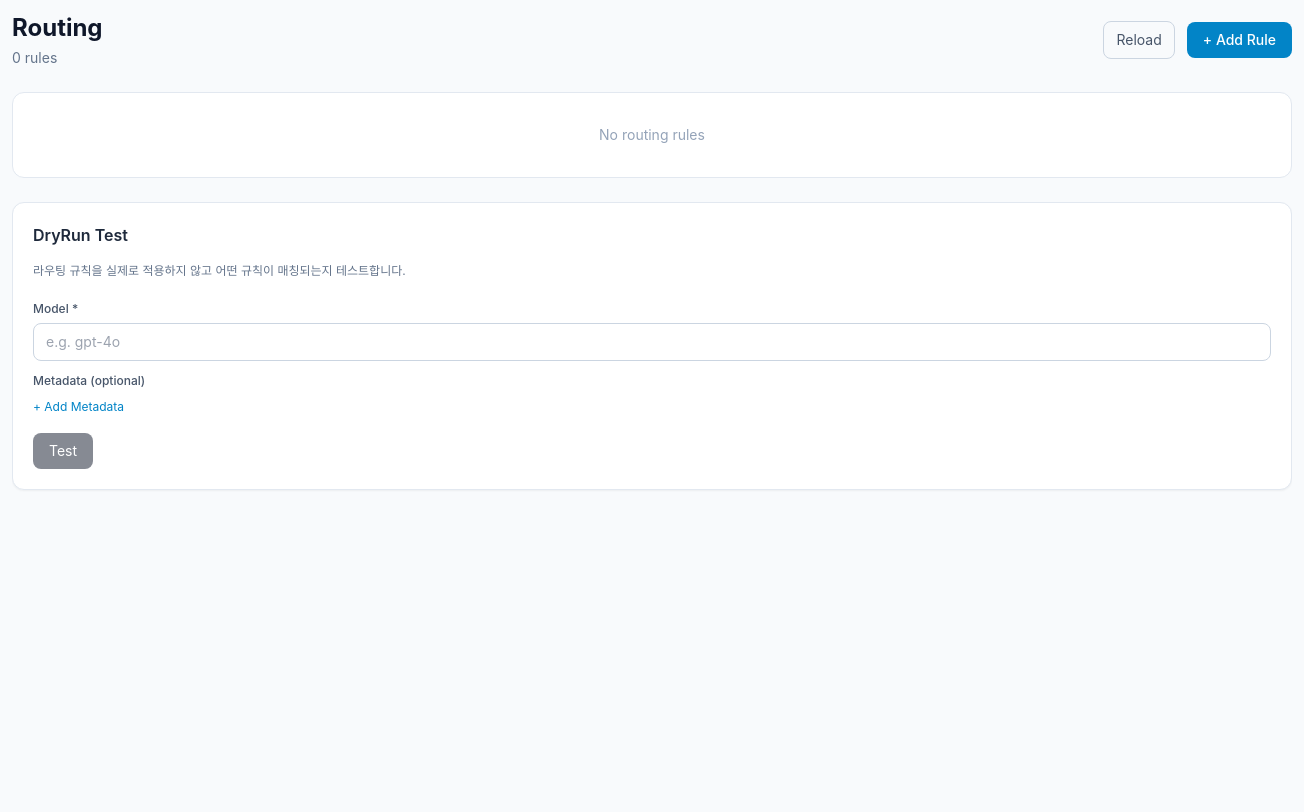
RoutingPage › TC-12: DryRun no match — shows "No matching rule" message
Type "unknown-model" into the field with placeholder "e.g. gpt-4o" at (652, 342), box [33, 323, 1271, 361]
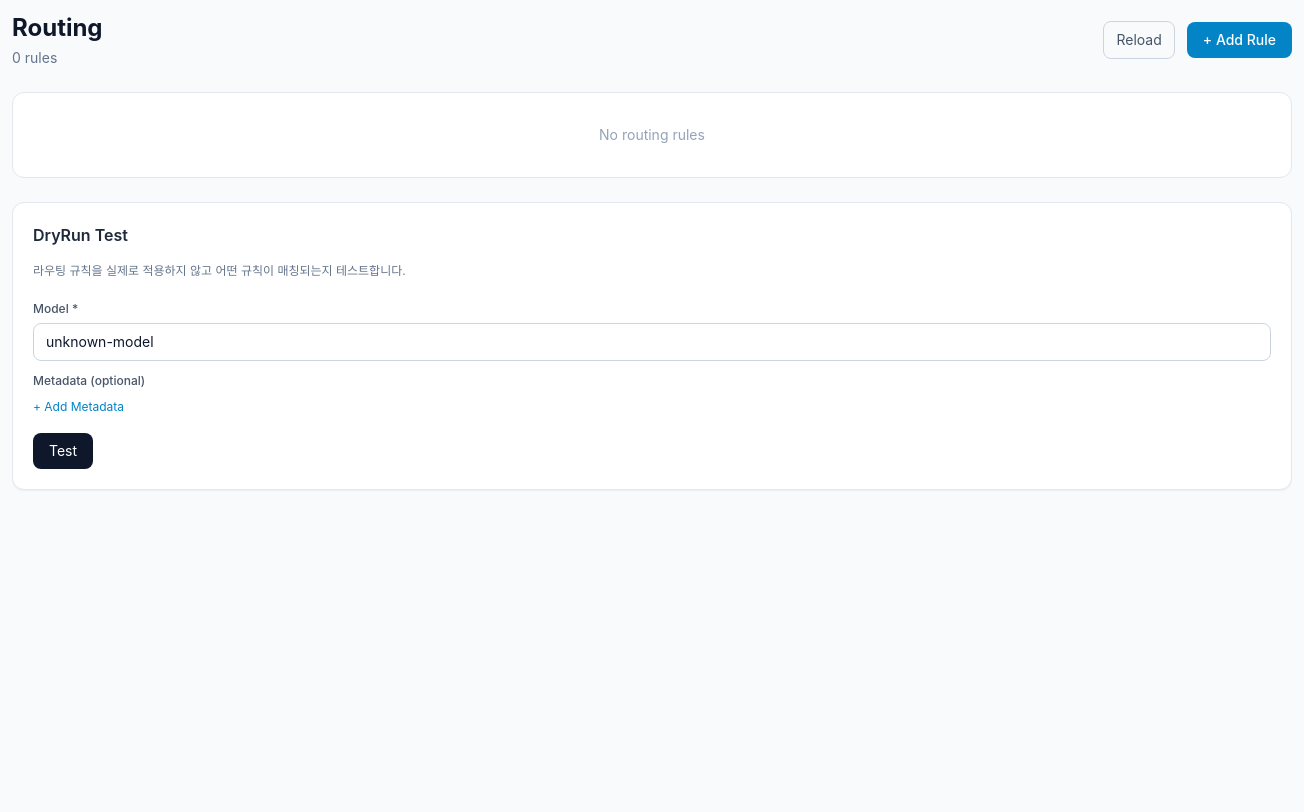
Click the button "Test" at (63, 451), box [33, 433, 93, 469]
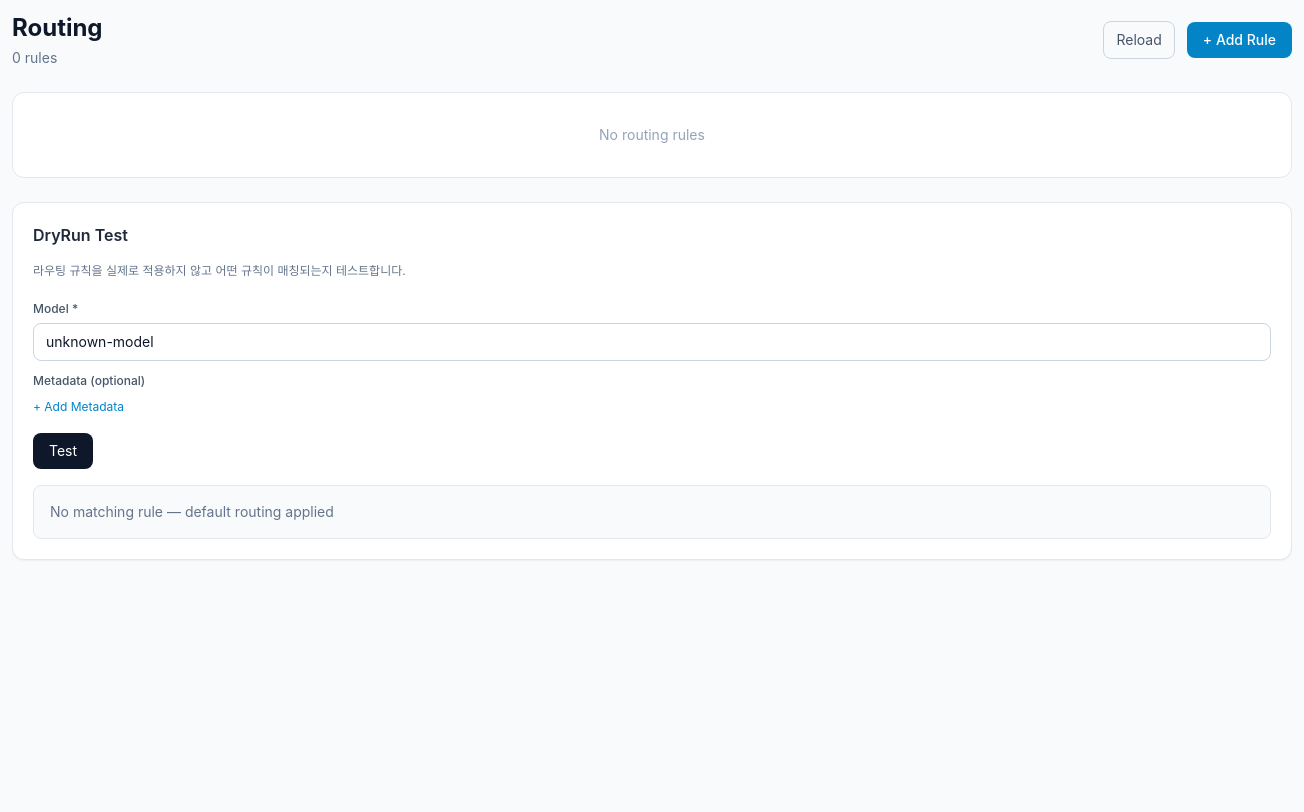
Expected: the text "No matching rule — default routing applied" is shown, [50, 503, 334, 520]
